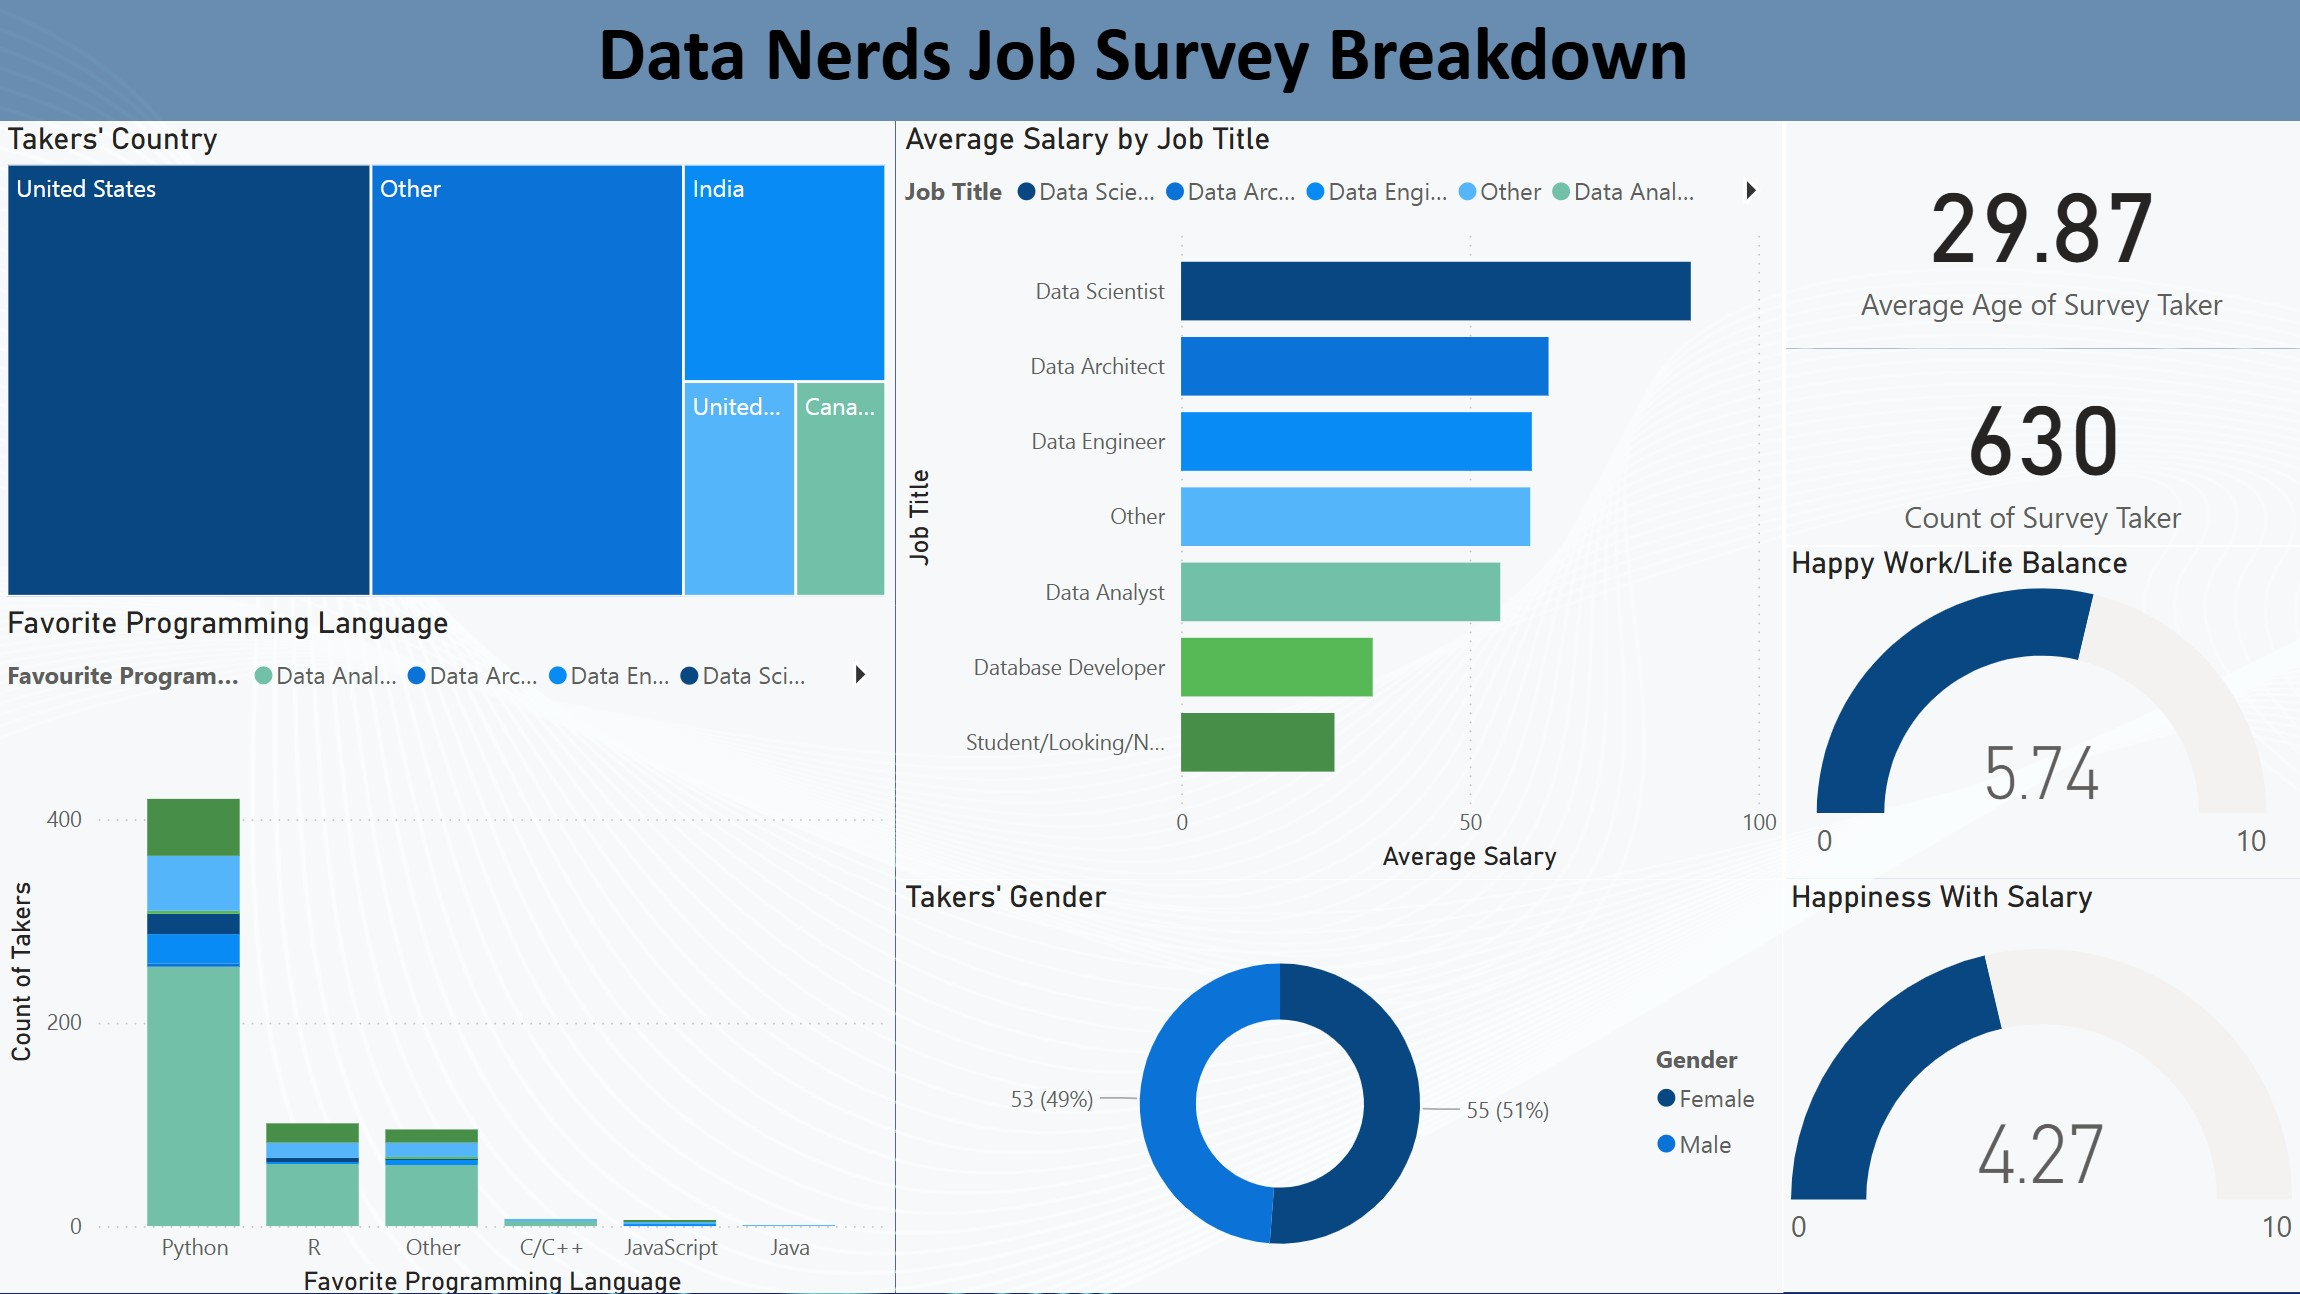

The page's visual inventory and layout, read from the dashboard file:
{"tool":"powerbi","page":{"name":"Page 1","canvas":[1280,720],"ordinal":0},"visuals":[{"type":"textbox","box":[0,0,1280,68.8],"z":0},{"type":"card","fields":{"Values":["CountNonNull(Data Professional Survey.Unique ID)"]},"box":[991.6,195,289.8,109.9],"z":1000},{"type":"card","fields":{"Values":["Avg(Data Professional Survey.Q10 - Current Age)"]},"box":[991.6,68.7,288.4,126.4],"z":2000},{"type":"barChart","title":"Average Salary by Job Title","fields":{"Category":["Data Professional Survey.Q1 - Which Title Best Fits your Current Role?.1"],"Y":["Avg(Data Professional Survey.Q3 - Current Yearly Salary (in USD))"],"Series":["Data Professional Survey.Q1 - Which Title Best Fits your Current Role?.1"]},"box":[498.5,68.7,494.4,421.6],"z":3000},{"type":"columnChart","title":"Favorite Programming Language","fields":{"Category":["Data Professional Survey.Q5 - Favorite Programming Language.1"],"Y":["CountNonNull(Data Professional Survey.Unique ID)"],"Series":["Data Professional Survey.Q1 - Which Title Best Fits your Current Role?.1"]},"box":[0,337.9,498.5,388.7],"z":4000},{"type":"treemap","title":"Takers'' Country","fields":{"Group":["Data Professional Survey.Q11 - Which Country do you live in?.1"],"Values":["CountNonNull(Data Professional Survey.Q11 - Which Country do you live in?.1)"]},"box":[0,68.7,498.5,269.2],"z":4001},{"type":"gauge","title":"Happy Work/Life Balance","fields":{"Y":["Avg(Data Professional Survey.Q6 - How Happy are you in your Current Position with the following? (Work/Life Balance))"],"MinValue":["Min(Data Professional Survey.Q6 - How Happy are you in your Current Position with the following? (Work/Life Balance))1"],"MaxValue":["Max(Data Professional Survey.Q6 - How Happy are you in your Current Position with the following? (Work/Life Balance))2"]},"box":[991.6,304.9,288.4,185.4],"z":4002},{"type":"gauge","title":"Happiness With Salary","fields":{"Y":["Avg(Data Professional Survey.Q6 - How Happy are you in your Current Position with the following? (Salary))"],"MinValue":["Min(Data Professional Survey.Q6 - How Happy are you in your Current Position with the following? (Salary))"],"MaxValue":["Max(Data Professional Survey.Q6 - How Happy are you in your Current Position with the following? (Salary))"]},"box":[991.6,490.3,288.4,229.4],"z":4003},{"type":"donutChart","title":"Takers'' Gender","fields":{"Category":["Data Professional Survey.Q9 - Male/Female?"],"Y":["Avg(Data Professional Survey.Q3 - Current Yearly Salary (in USD))"]},"box":[498.5,490.3,493,230.7],"z":4004}]}

Visuals, with their boxes in screenshot pixels (x1, y1, x2, y2), scaled from the page's 1280x720 canvas onto the 2300x1294 screenshot:
textbox: box=[0, 0, 2299, 124]
card - CountNonNull(Data Professional Survey.Unique ID): box=[1782, 350, 2299, 548]
card - Avg(Data Professional Survey.Q10 - Current Age): box=[1782, 123, 2299, 351]
"Average Salary by Job Title" barChart: box=[896, 123, 1784, 881]
"Favorite Programming Language" columnChart: box=[0, 607, 896, 1293]
"Takers'' Country" treemap: box=[0, 123, 896, 607]
"Happy Work/Life Balance" gauge: box=[1782, 548, 2299, 881]
"Happiness With Salary" gauge: box=[1782, 881, 2299, 1293]
"Takers'' Gender" donutChart: box=[896, 881, 1782, 1293]
